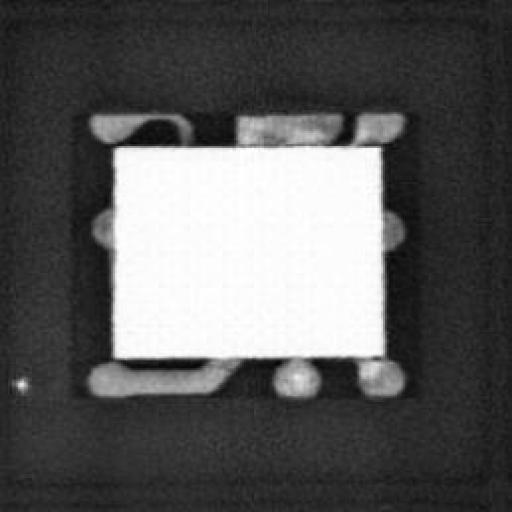DIE_INK: (10, 372, 30, 392)
